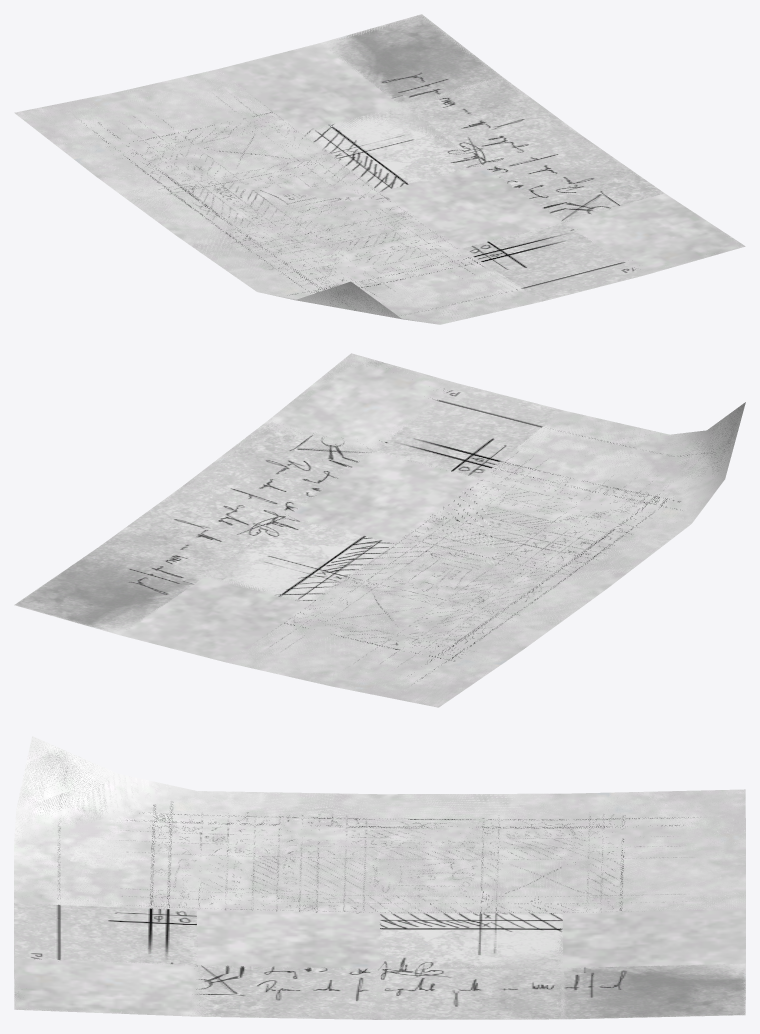
Rendered from note_ross_files01.dae.
The picture shows the model from 3 angles, top to bottom: view 1: azimuth 30°, elevation 25°; view 2: azimuth 150°, elevation 25°; view 3: azimuth 270°, elevation 25°; orthographic projection. The views are drawn at different scales.
Parts seen in each view (by area): view 1: polySurface3; view 2: polySurface3; view 3: polySurface3.
Part boxes in pixels (x1=…): polySurface3: x1=14, y1=14, x2=745, y2=324; polySurface3: x1=14, y1=353, x2=745, y2=707; polySurface3: x1=14, y1=736, x2=745, y2=1019.
Bounding box in the file's own units: 0.2536 × 0.0404 × 0.3491.
